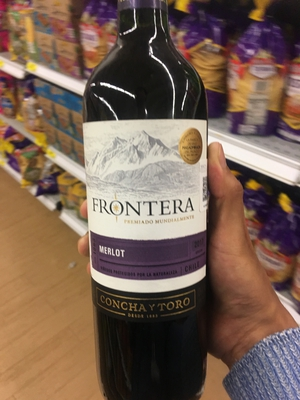frontera merlot: (74, 4, 213, 400)
